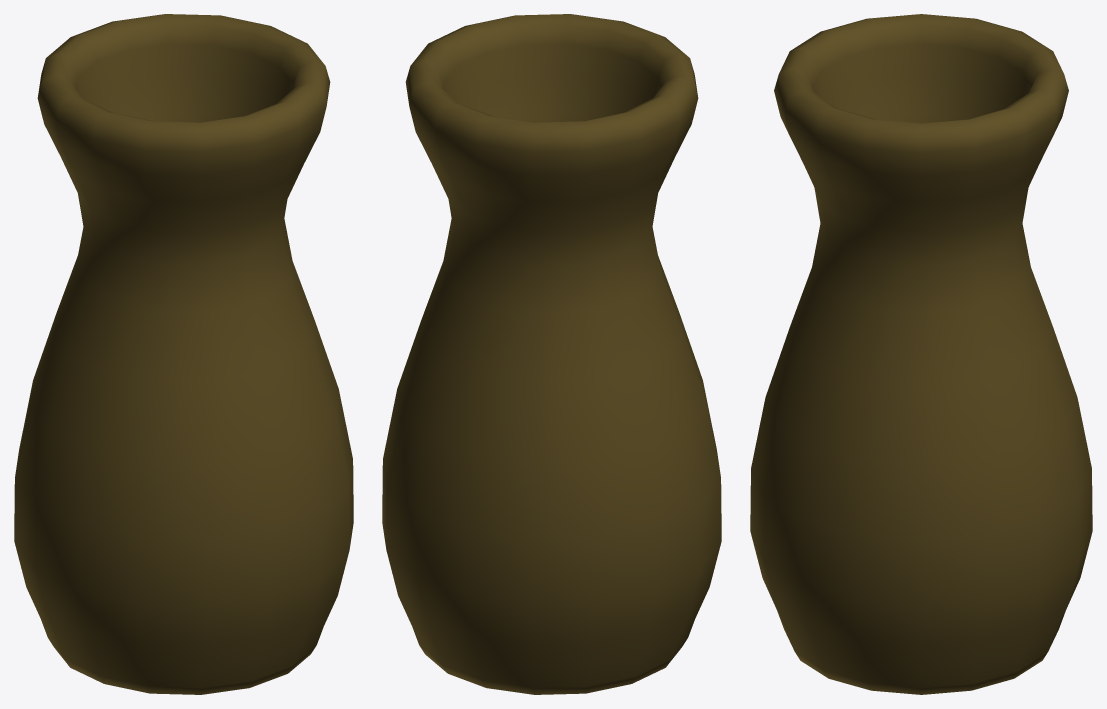
File: Vase(y).fbx
The picture shows the model from 3 angles, left to right: view 1: azimuth 30°, elevation 25°; view 2: azimuth 150°, elevation 25°; view 3: azimuth 270°, elevation 25°; orthographic projection.
Visible parts, largest first — view 1: Cylinder; view 2: Cylinder; view 3: Cylinder.
Part boxes in pixels (x1,y1,x2,y2): Cylinder: (14, 14, 353, 694); Cylinder: (382, 14, 721, 694); Cylinder: (750, 14, 1092, 694).
Bounding box in the file's own units: 30.66 × 56.73 × 30.66.
